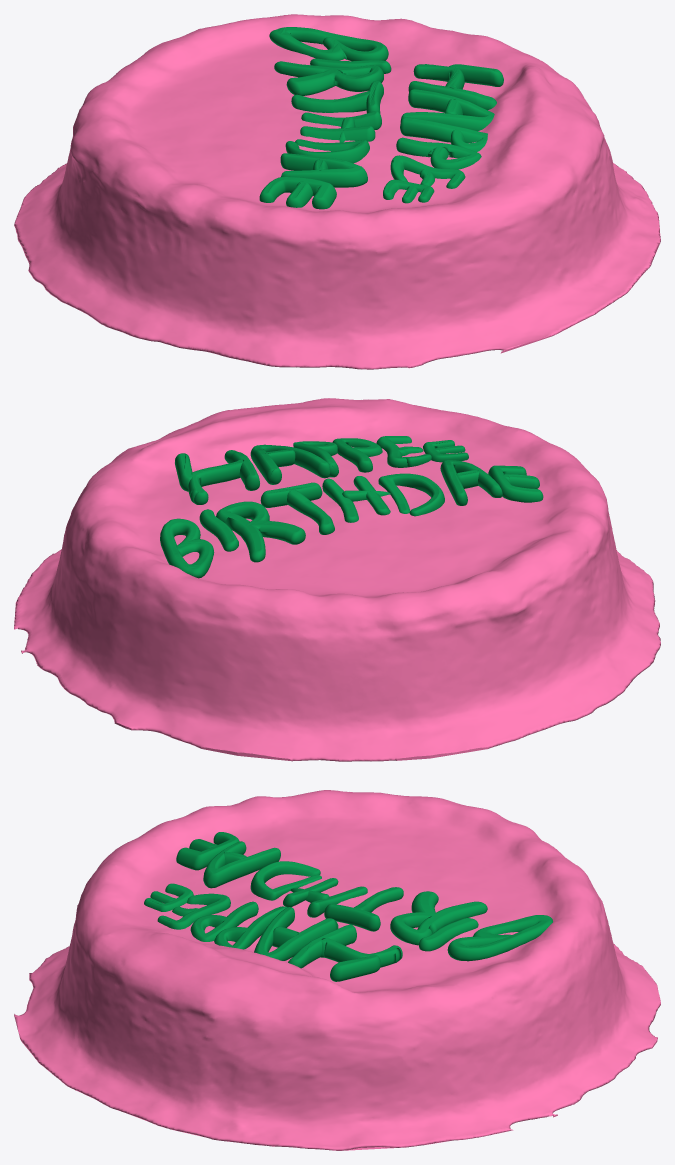
Rendered from harrypotter-draco.glb.
3 views of the same model, one above another, from view 1: azimuth 30°, elevation 25°; view 2: azimuth 150°, elevation 25°; view 3: azimuth 270°, elevation 25° (orthographic). The views are drawn at different scales.
Parts seen in each view (by area): view 1: Birthday Cake; view 2: Birthday Cake; view 3: Birthday Cake.
Part boxes in pixels (box(x1,y1,x2,y2)): Birthday Cake: box(14, 14, 660, 369); Birthday Cake: box(14, 398, 660, 761); Birthday Cake: box(14, 790, 660, 1150).
Bounding box in the file's own units: 5.74 × 1.29 × 5.78.
